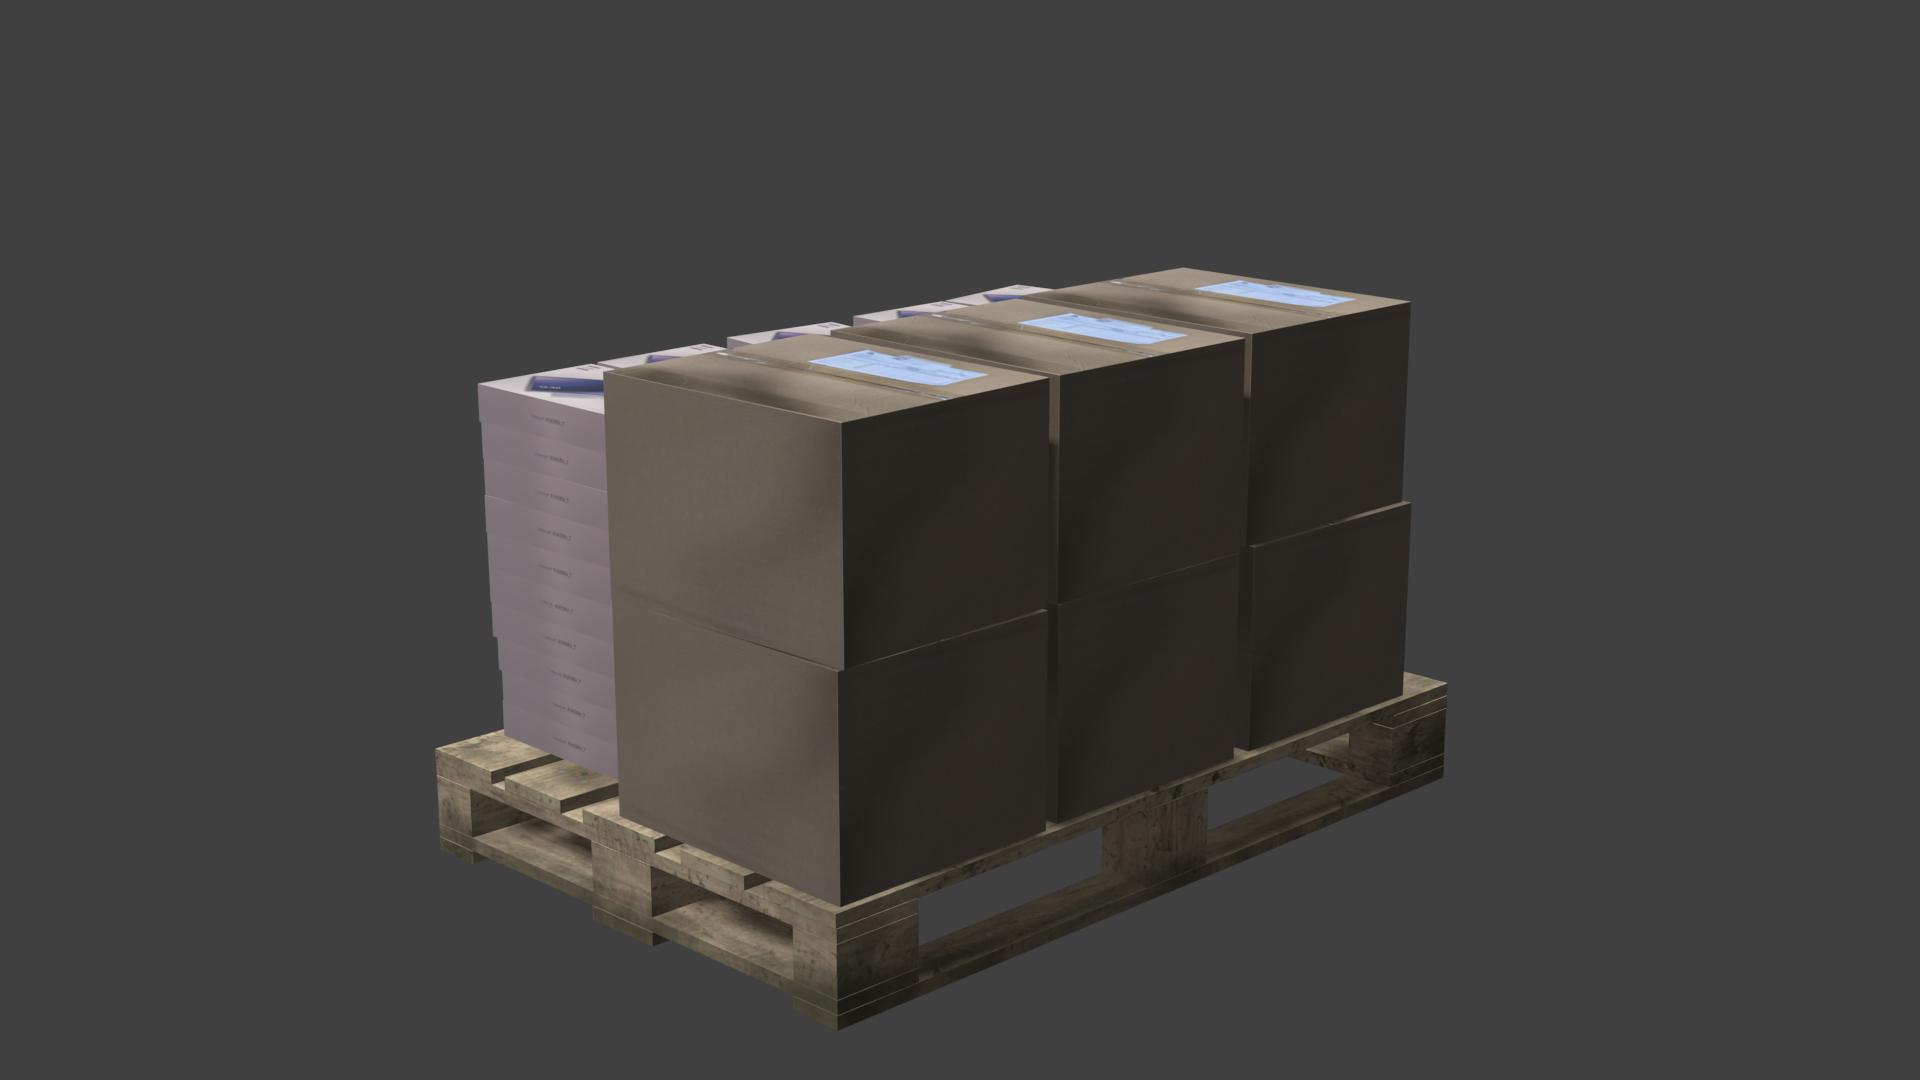group_box_left: (604, 373, 1048, 671), (613, 603, 1047, 905), (1047, 554, 1238, 825), (1048, 340, 1244, 604), (1236, 502, 1410, 752), (1241, 302, 1410, 545)
group_box_top: (605, 332, 1047, 423), (835, 298, 1240, 376), (1029, 268, 1411, 335)
palet: (434, 673, 1447, 1031)
tablet_left: (502, 699, 618, 782), (492, 604, 615, 679), (484, 496, 611, 568), (497, 638, 616, 715), (489, 571, 613, 644), (487, 535, 612, 607), (484, 459, 608, 530), (479, 385, 605, 454), (481, 423, 607, 492), (502, 671, 617, 745)
tablet_top: (483, 363, 615, 415), (603, 343, 725, 368), (728, 320, 851, 344), (857, 301, 971, 322), (947, 285, 1056, 306)
